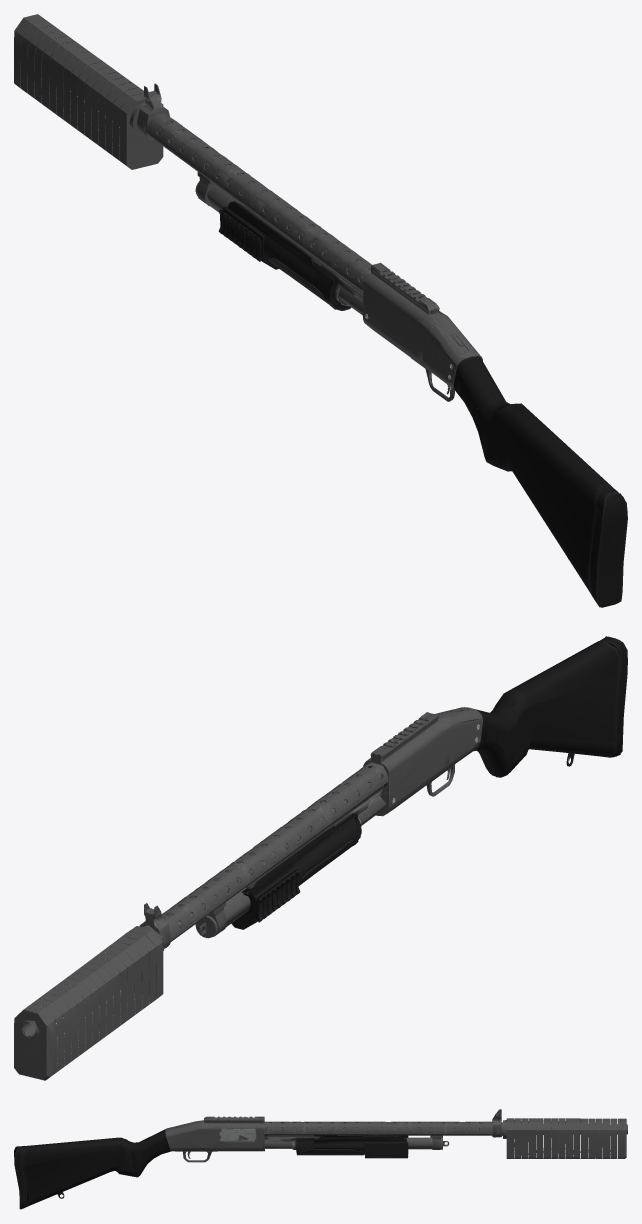
The picture shows the model from 3 angles, top to bottom: view 1: azimuth 30°, elevation 25°; view 2: azimuth 150°, elevation 25°; view 3: azimuth 270°, elevation 25°; orthographic projection. The views are drawn at different scales.
Parts seen in each view (by area): view 1: m500; view 2: m500; view 3: m500.
Part boxes in pixels (box(x1,y1,x2,y2)): m500: box(14, 14, 627, 607); m500: box(14, 636, 627, 1080); m500: box(14, 1109, 627, 1209).
Bounding box in the file's own units: 0.0451 × 0.2009 × 1.15.
6 materials, 6 textured.
